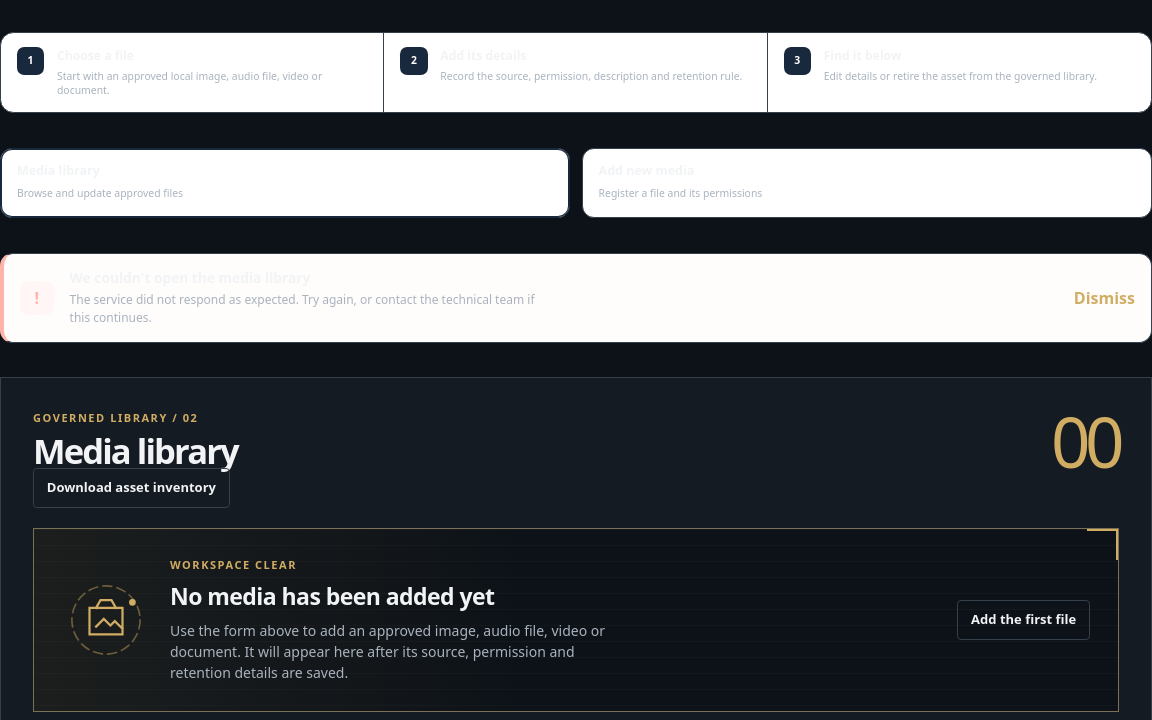
Scenario: MediaWorkspace › explains a library error and lets the operator dismiss it
Expected: the message shows "Try again", [70, 291, 534, 326]
Click the button "Dismiss".
click(1104, 298)  # box [1074, 286, 1135, 310]
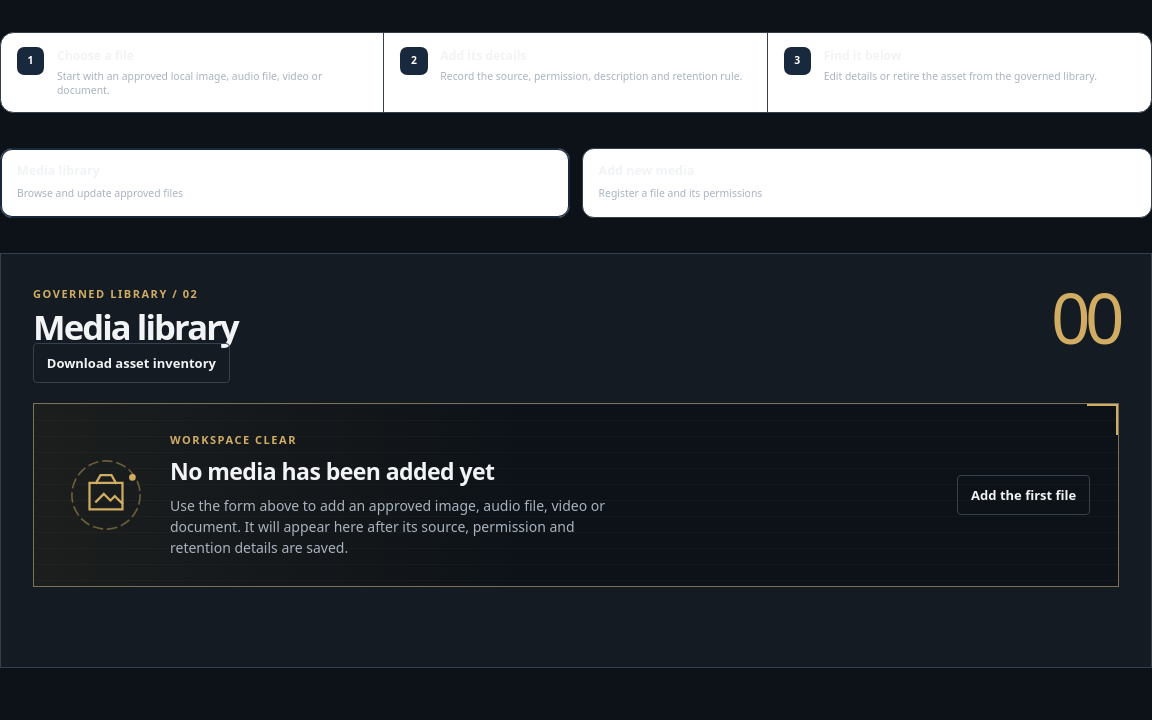
Now the message is gone
